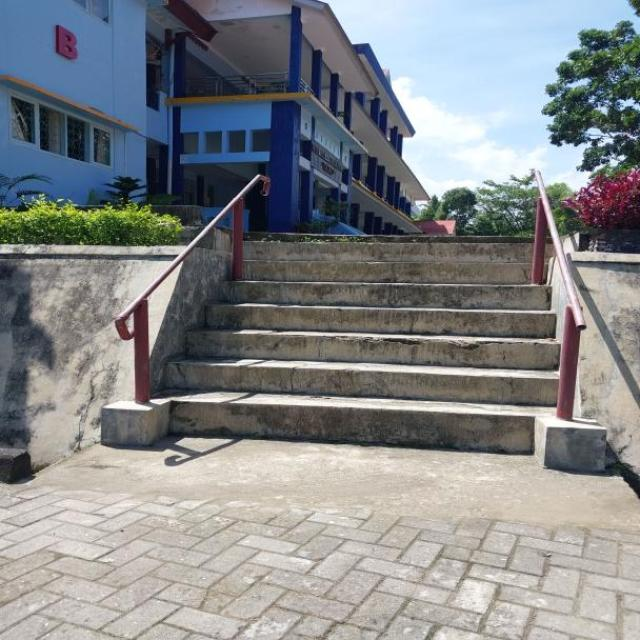stairs ahead at: (165, 238, 560, 451)
